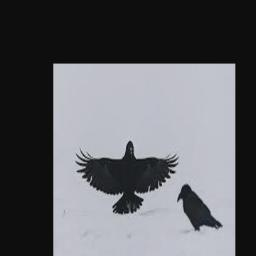Crow: (75, 140, 178, 214), (177, 183, 223, 231)
